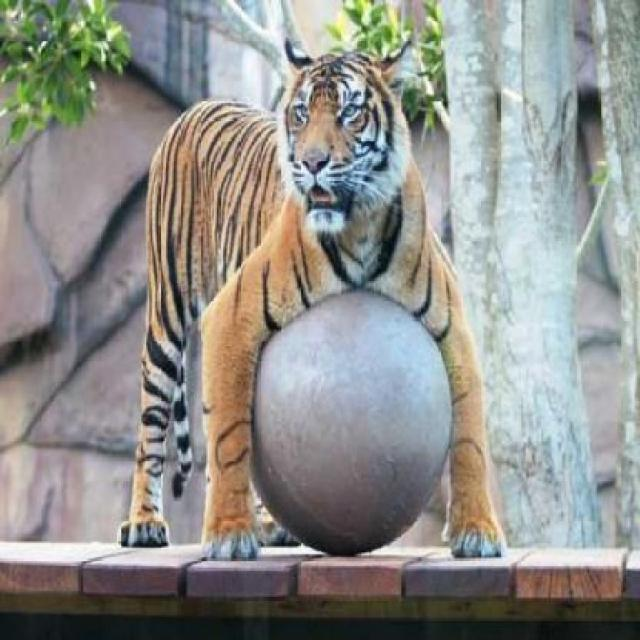Tiger: (124, 42, 561, 593)
